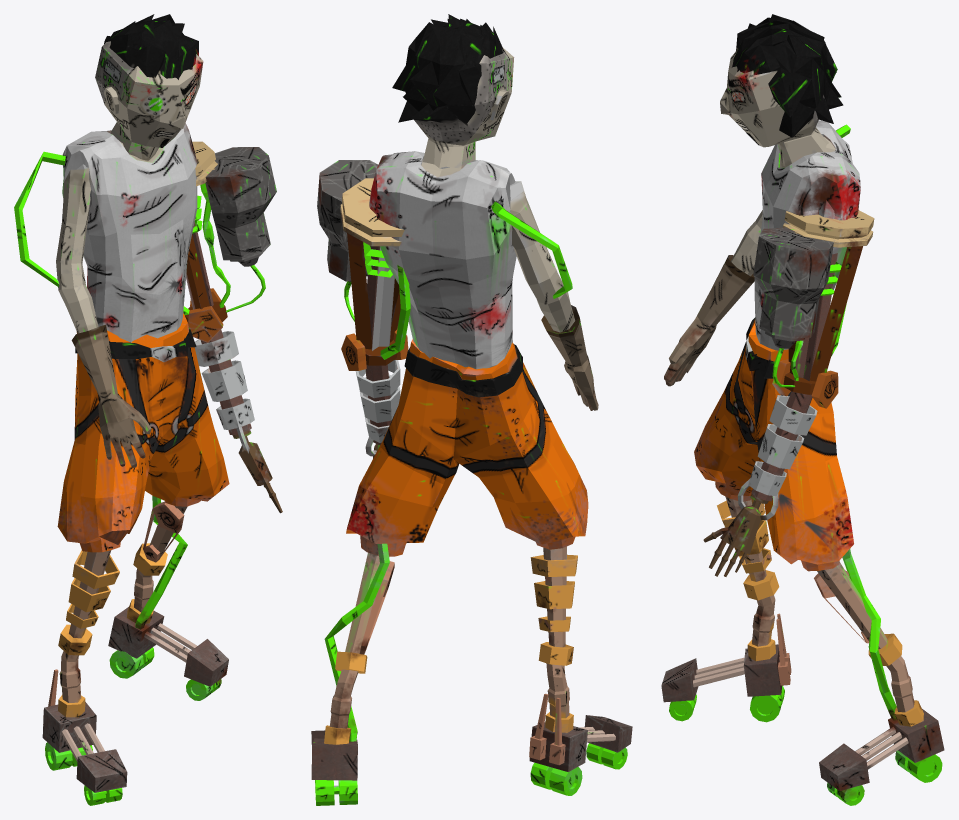
File: CyborgFINALAnimation_000165.obj
3 renders of one model, left to right at view 1: azimuth 30°, elevation 25°; view 2: azimuth 150°, elevation 25°; view 3: azimuth 270°, elevation 25°, orthographic. The views are drawn at different scales.
Parts seen in each view (by area): view 1: CyborgMesh_Cube.002; view 2: CyborgMesh_Cube.002; view 3: CyborgMesh_Cube.002.
Part boxes in pixels (left/top/right/bottom): CyborgMesh_Cube.002: left=14, top=14, right=282, bottom=805; CyborgMesh_Cube.002: left=311, top=14, right=632, bottom=805; CyborgMesh_Cube.002: left=661, top=14, right=944, bottom=805.
Bounding box in the file's own units: 3.41 × 9.62 × 3.33.
